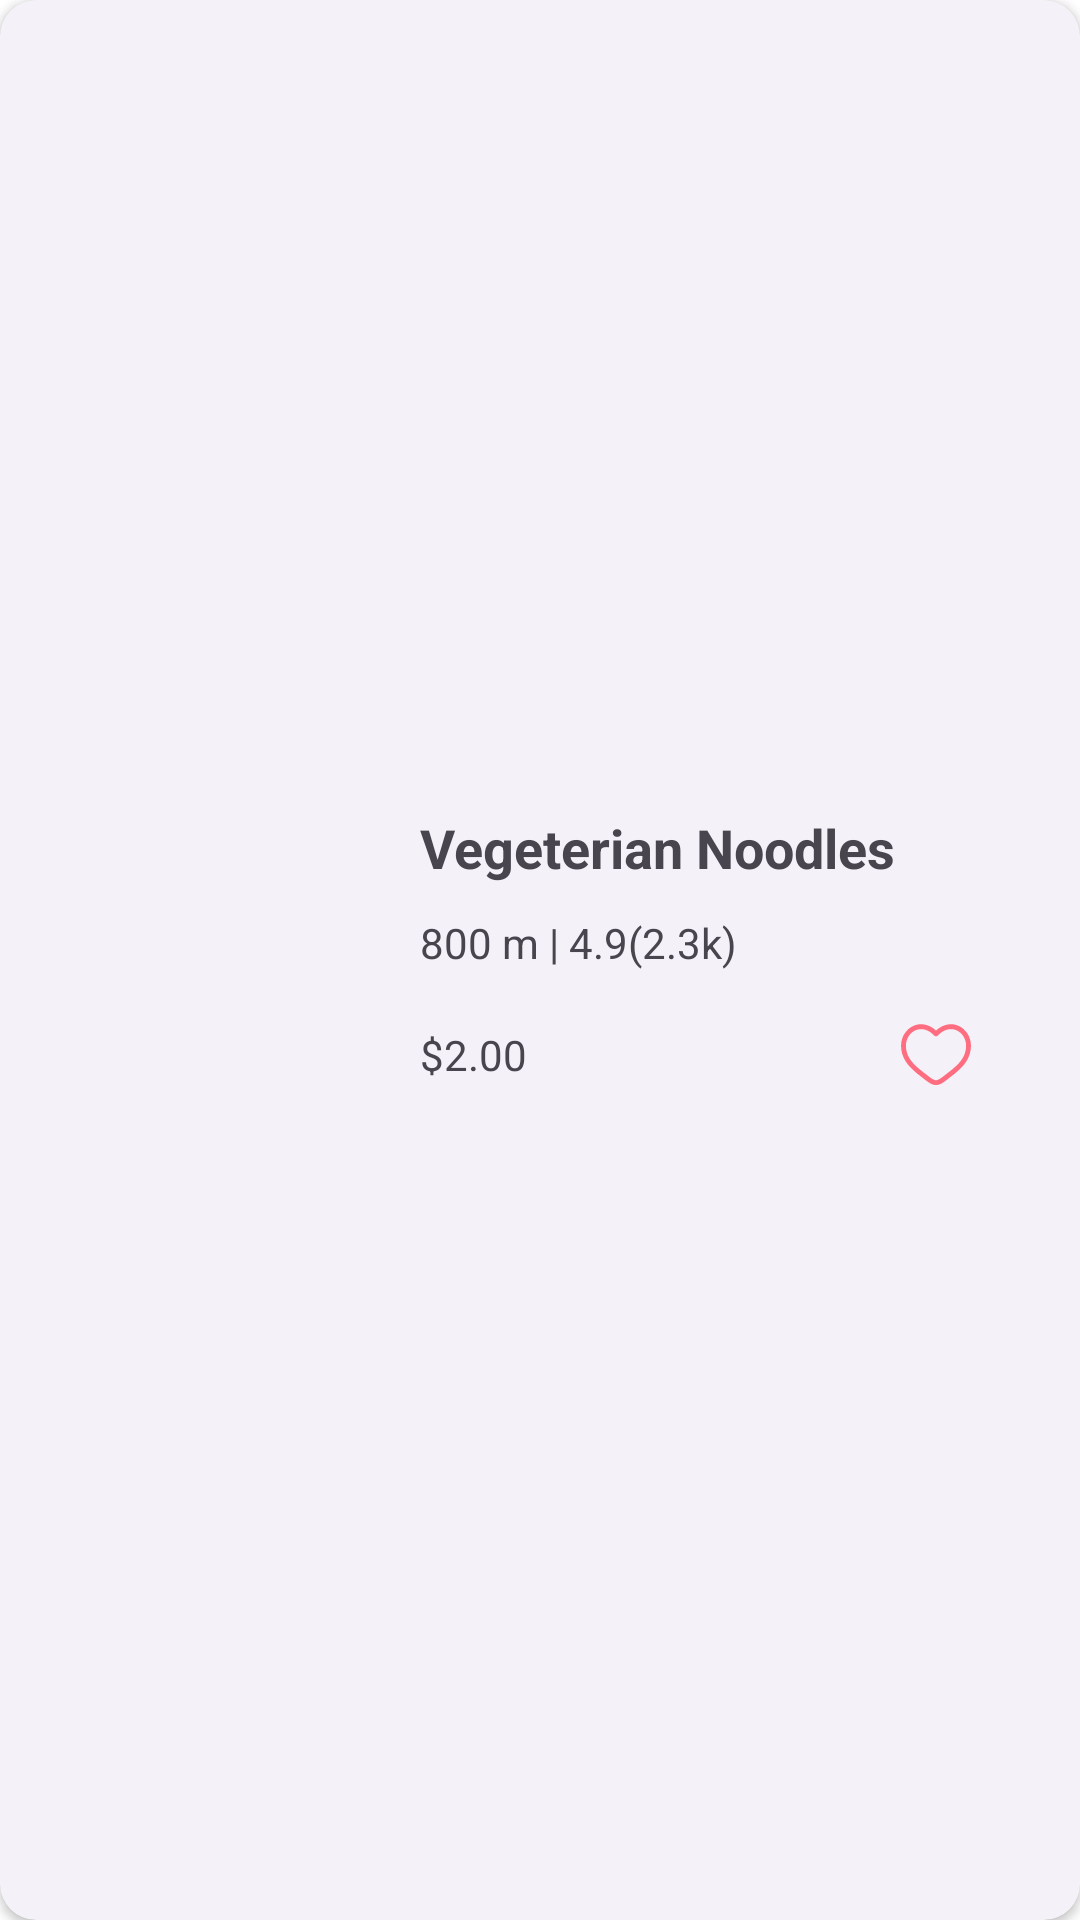

Named icons in this screenshot (1080*1920) and their bounding boxes, {"x1": x1, "y1": y1, "x2": x2, "y2": y2}:
heart: {"x1": 901, "y1": 1024, "x2": 971, "y2": 1085}
